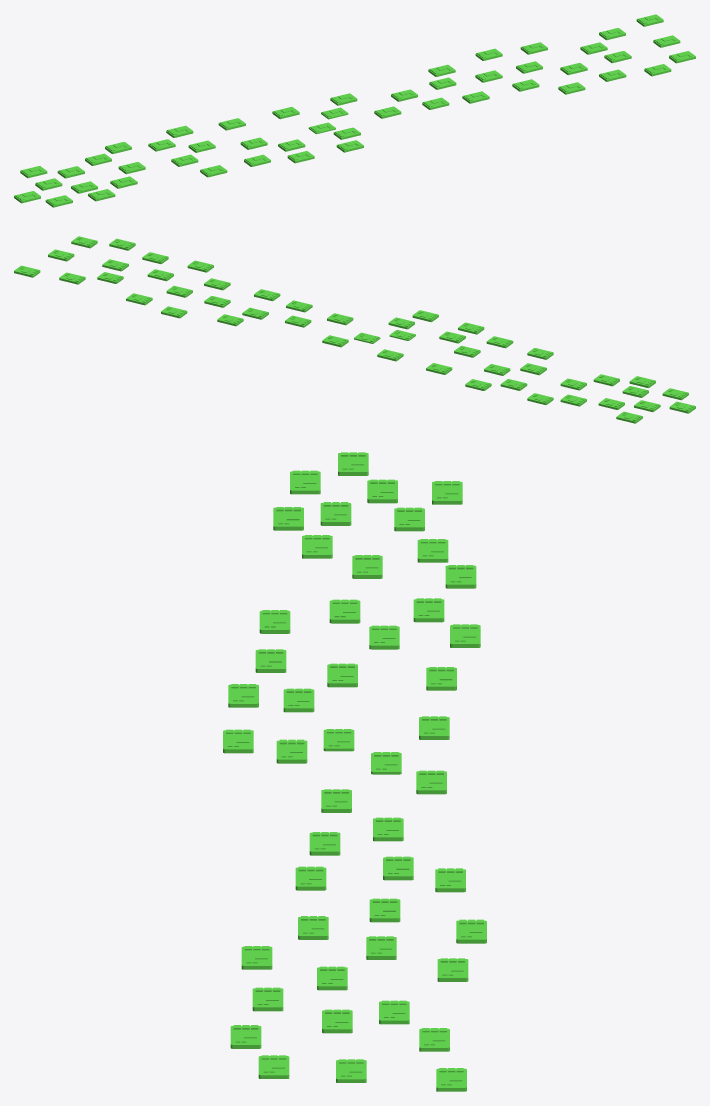
File: Picloud_RpisDraco.glb
3 renders of one model, top to bottom at view 1: azimuth 30°, elevation 25°; view 2: azimuth 150°, elevation 25°; view 3: azimuth 270°, elevation 25°, orthographic. The views are drawn at different scales.
Size of the model in its own units: 2.82 by 0.0143 by 0.4951.
